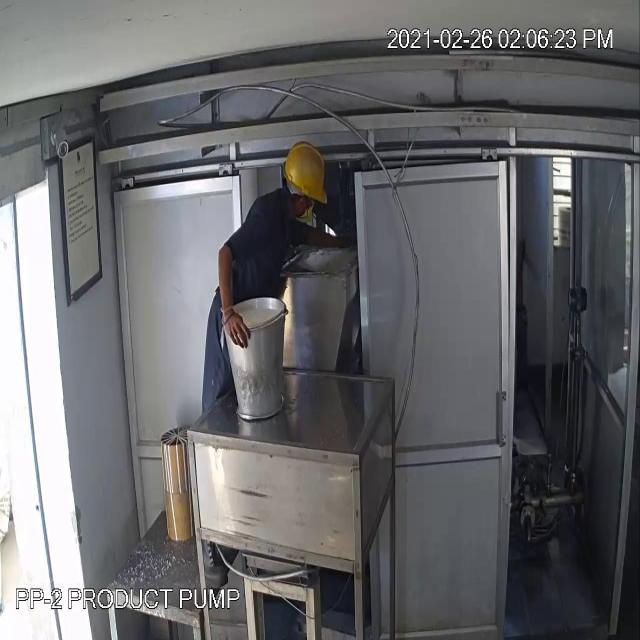helmet: (280, 133, 332, 216)
